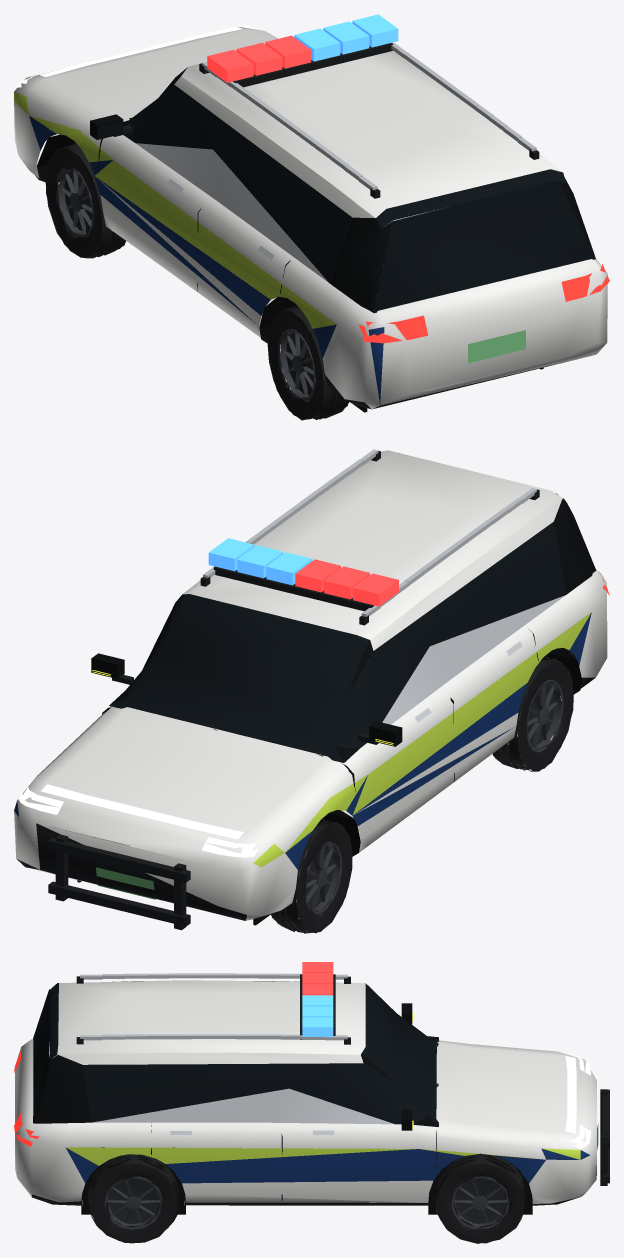
The model's file is gz_police_lod2.glb.
The picture shows the model from 3 angles, top to bottom: view 1: azimuth 30°, elevation 25°; view 2: azimuth 150°, elevation 25°; view 3: azimuth 270°, elevation 25°; orthographic projection. The views are drawn at different scales.
Visible parts, largest first — view 1: vehicle_lod2; view 2: vehicle_lod2; view 3: vehicle_lod2.
Part boxes in pixels (<box>): vehicle_lod2: <box>14,14,609,420</box>; vehicle_lod2: <box>14,449,609,933</box>; vehicle_lod2: <box>14,962,609,1243</box>.
Bounding box in the file's own units: 2.32 × 1.89 × 5.02.
